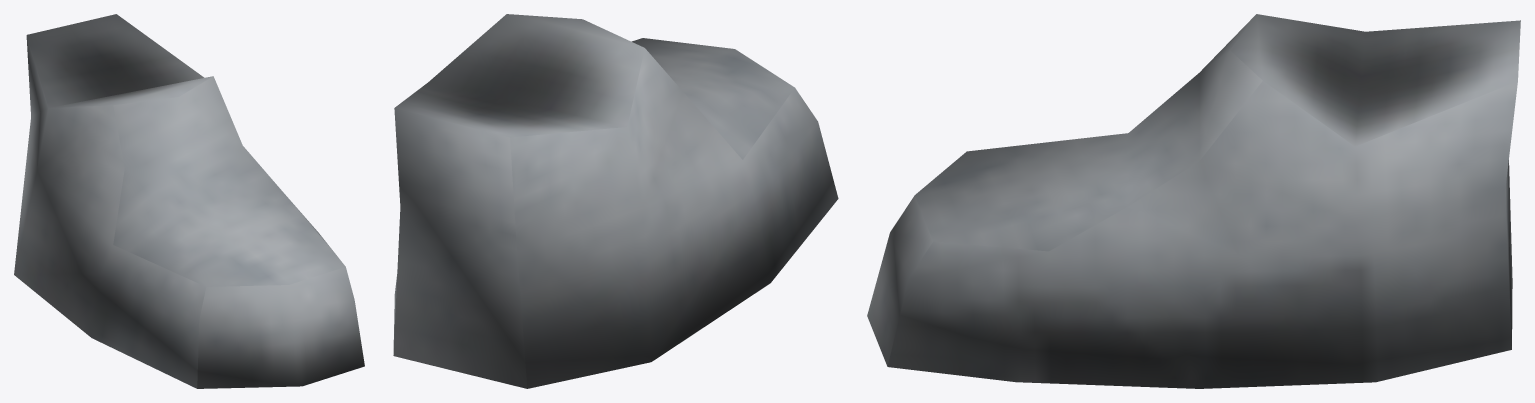
The model's file is grave_marine_boot_r.glb.
3 views of the same model, side by side, from view 1: azimuth 30°, elevation 25°; view 2: azimuth 150°, elevation 25°; view 3: azimuth 270°, elevation 25° (orthographic). The views are drawn at different scales.
Parts seen in each view (by area): view 1: scythe_marine_boot_r; view 2: scythe_marine_boot_r; view 3: scythe_marine_boot_r.
Boxes of the visible parts, bbox=[...] form: scythe_marine_boot_r: bbox=[14, 14, 364, 388]; scythe_marine_boot_r: bbox=[393, 14, 838, 388]; scythe_marine_boot_r: bbox=[867, 14, 1520, 388].
Size of the model in its own units: 0.6776 by 0.6035 by 1.3.
Materials: 1 (1 with a texture image).
